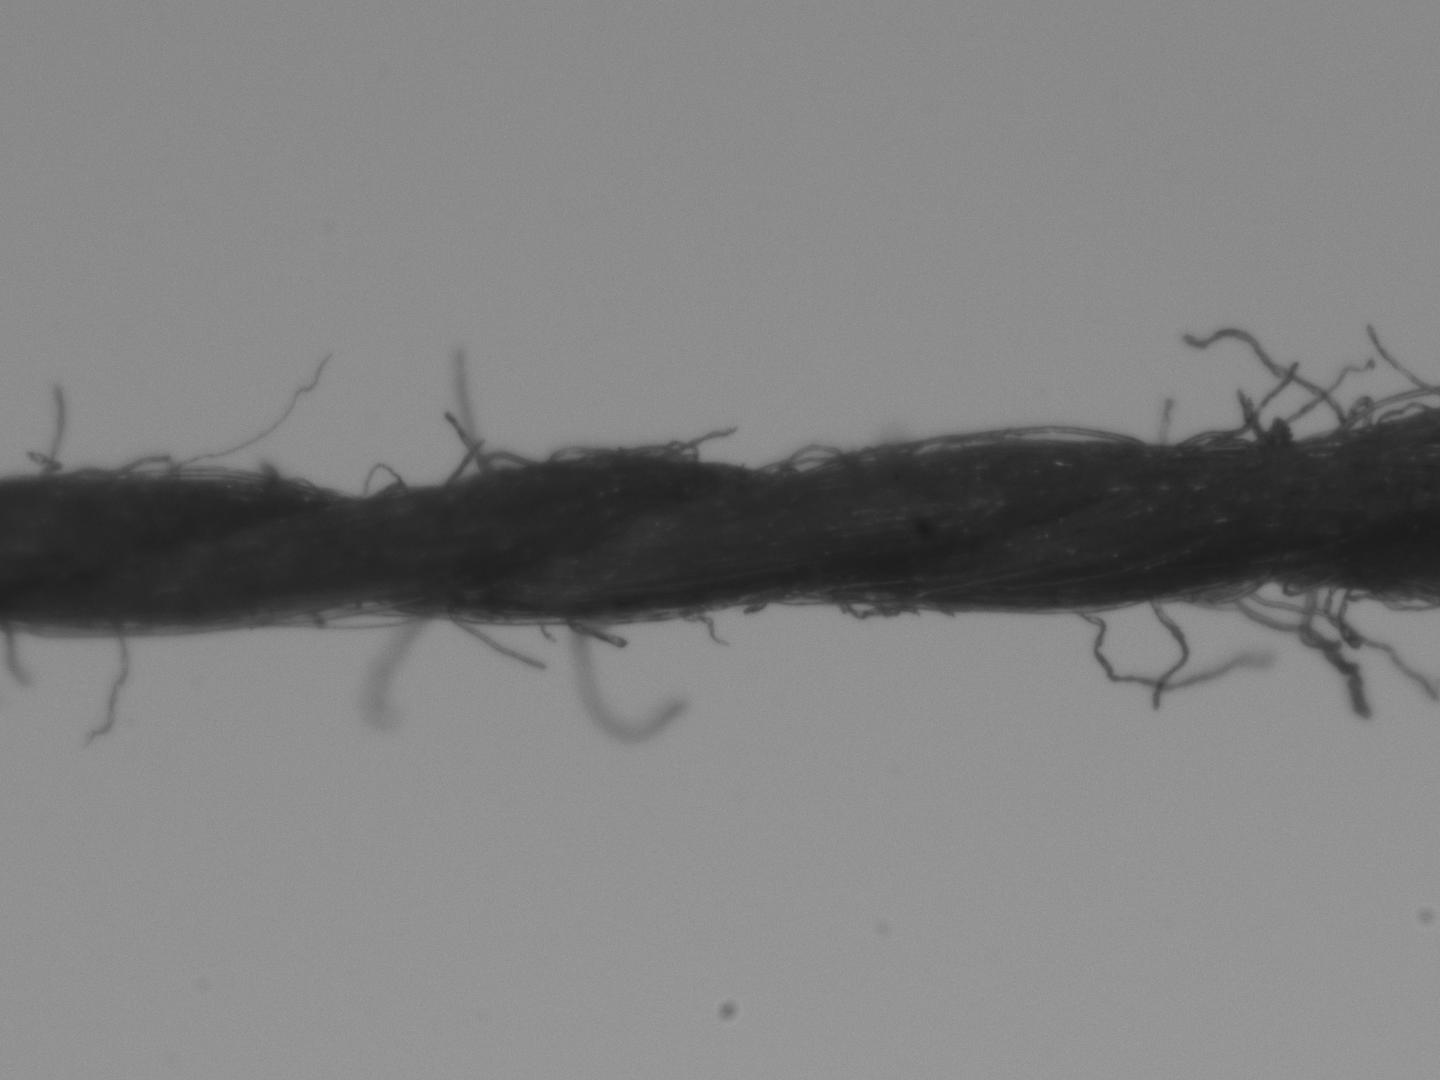loop_fiber: (895, 424, 1127, 458), (294, 607, 430, 633), (774, 440, 846, 476), (825, 594, 922, 621), (1372, 398, 1432, 432), (1184, 425, 1257, 453), (353, 462, 408, 497), (474, 453, 540, 475), (547, 446, 619, 463)
protruding_fiber: (1073, 607, 1272, 689), (1188, 328, 1345, 428), (91, 625, 129, 751), (443, 622, 543, 668), (35, 376, 63, 472), (560, 627, 626, 653)
